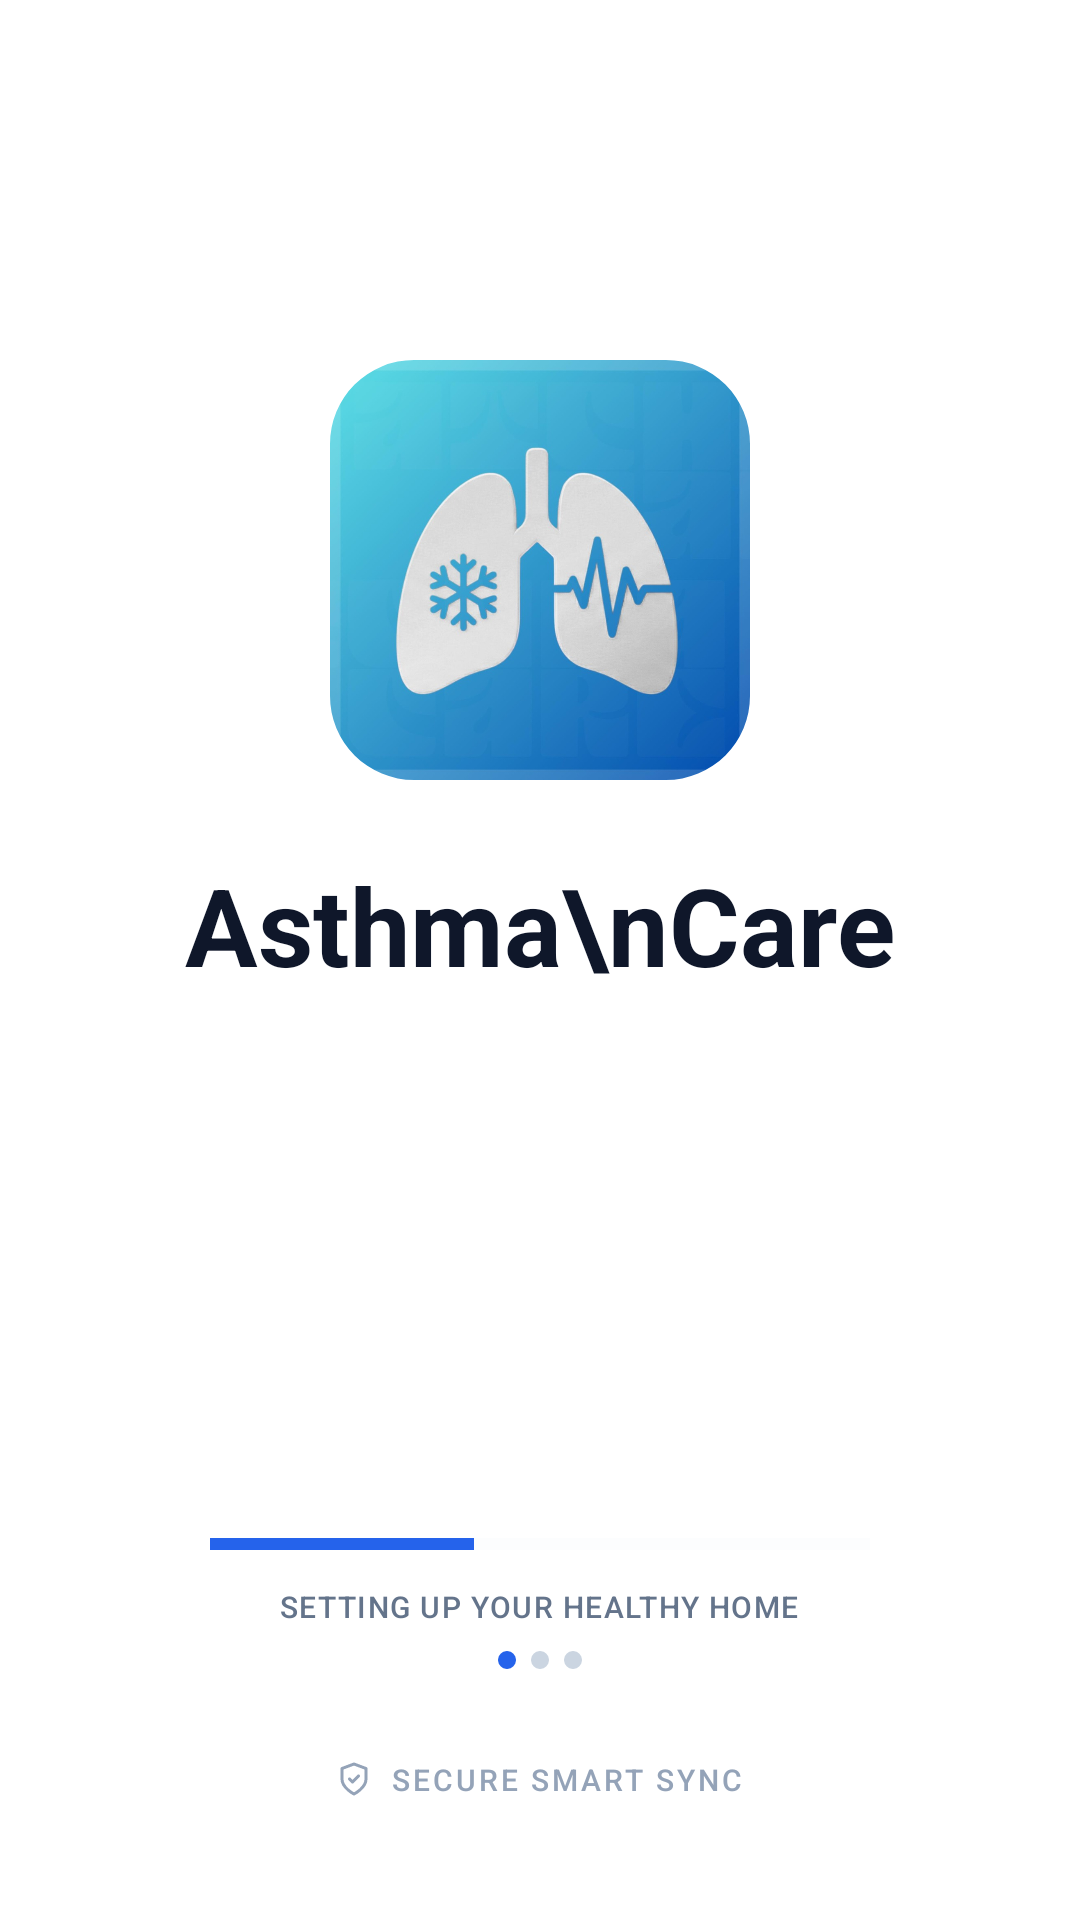

Icon bounding boxes for this 1080w x 1920h phone screenshot, format bbox=[x1, y1, x2, y2]:
shield check: bbox=[340, 1762, 368, 1796]
